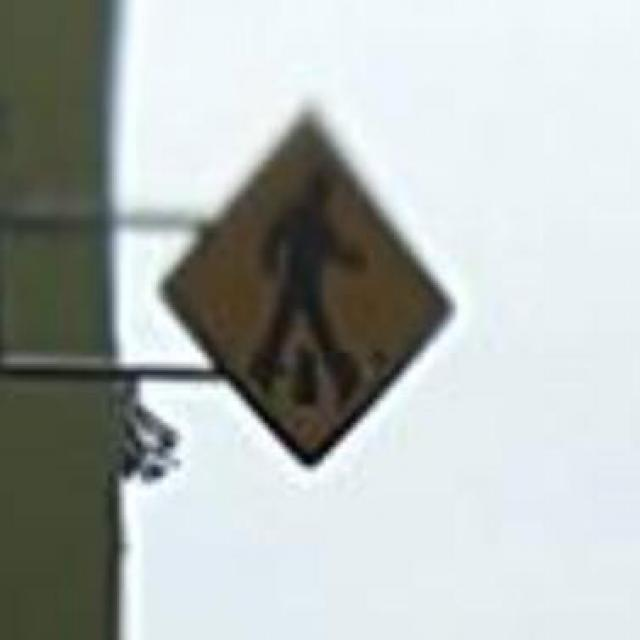traffic sign: (190, 134, 433, 448)
